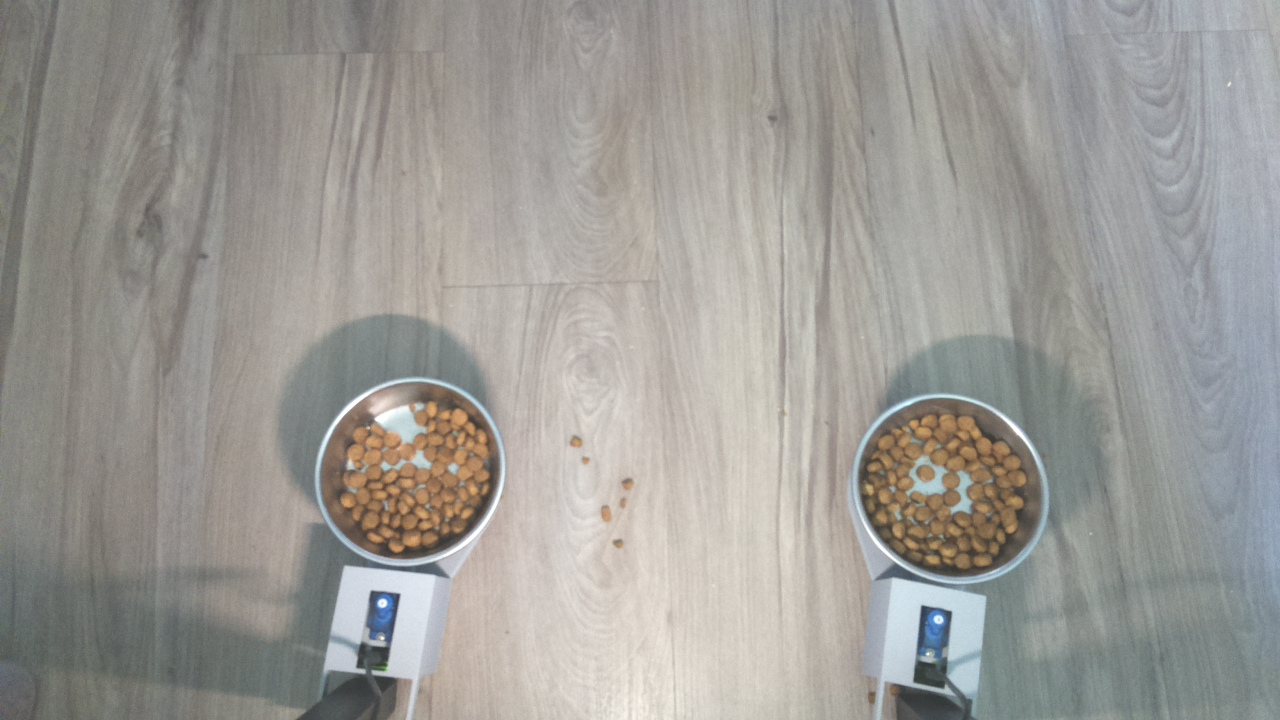open_bowl: (849, 390, 1052, 591), (312, 376, 507, 568)
